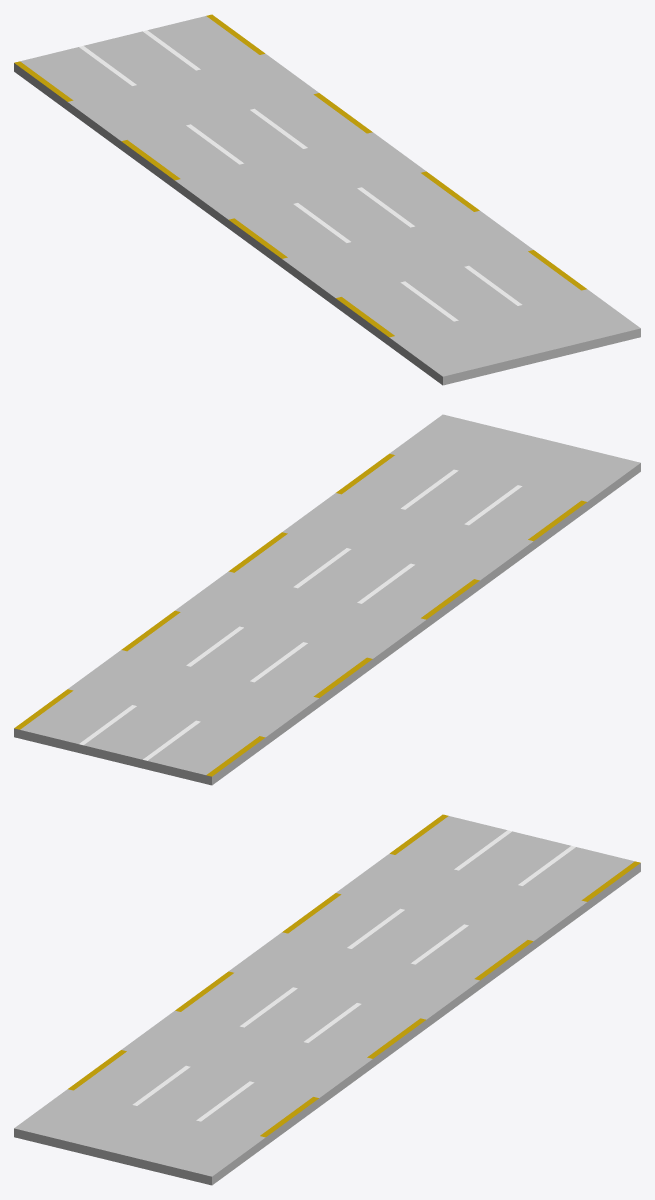
File: road.glb
3 renders of one model, top to bottom at view 1: azimuth 30°, elevation 25°; view 2: azimuth 150°, elevation 25°; view 3: azimuth 330°, elevation 25°, orthographic.
Parts seen in each view (by area): view 1: Cube; view 2: Cube; view 3: Cube.
Part boxes in pixels (x1,y1,x2,y2): Cube: [14, 14, 640, 385]; Cube: [14, 414, 640, 785]; Cube: [14, 814, 640, 1185].
Bounding box in the file's own units: 800 × 34.11 × 3000.
